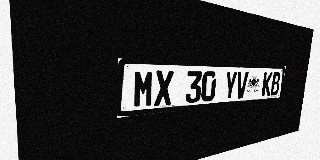0: (201, 71, 217, 102)
3: (185, 71, 202, 103)
B: (270, 72, 281, 96)
K: (261, 72, 273, 96)
M: (133, 70, 155, 108)
V: (235, 72, 248, 99)
X: (154, 70, 174, 106)
Y: (223, 71, 237, 100)
